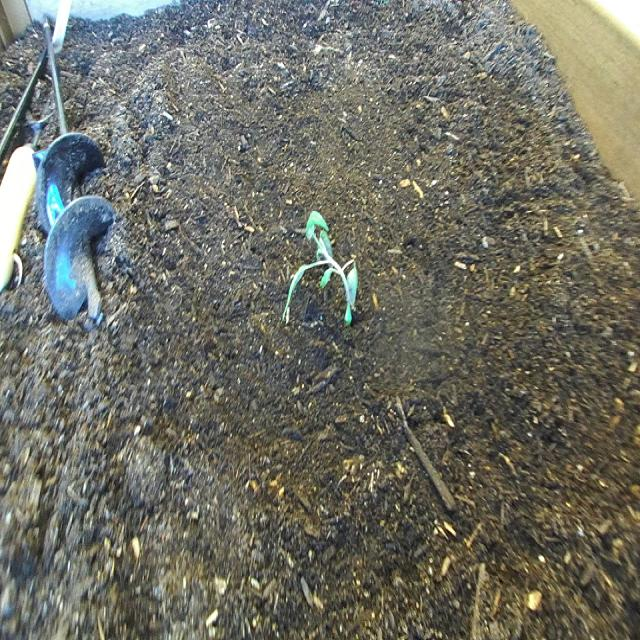Healthy: (274, 190, 370, 360)
